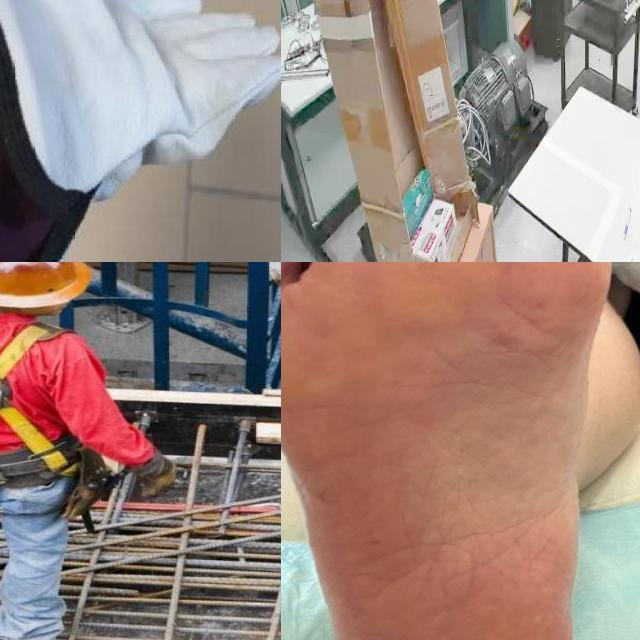Barefoots: (281, 262, 624, 640)
Harness: (0, 323, 68, 474)
